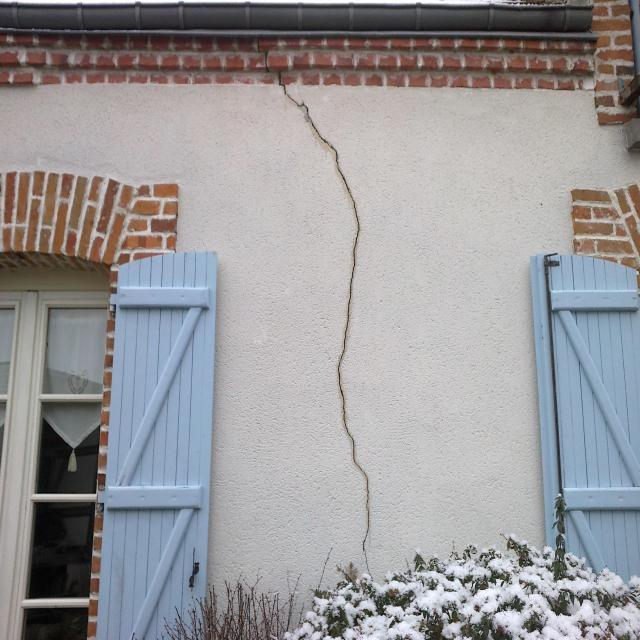crack: (258, 48, 378, 586)
